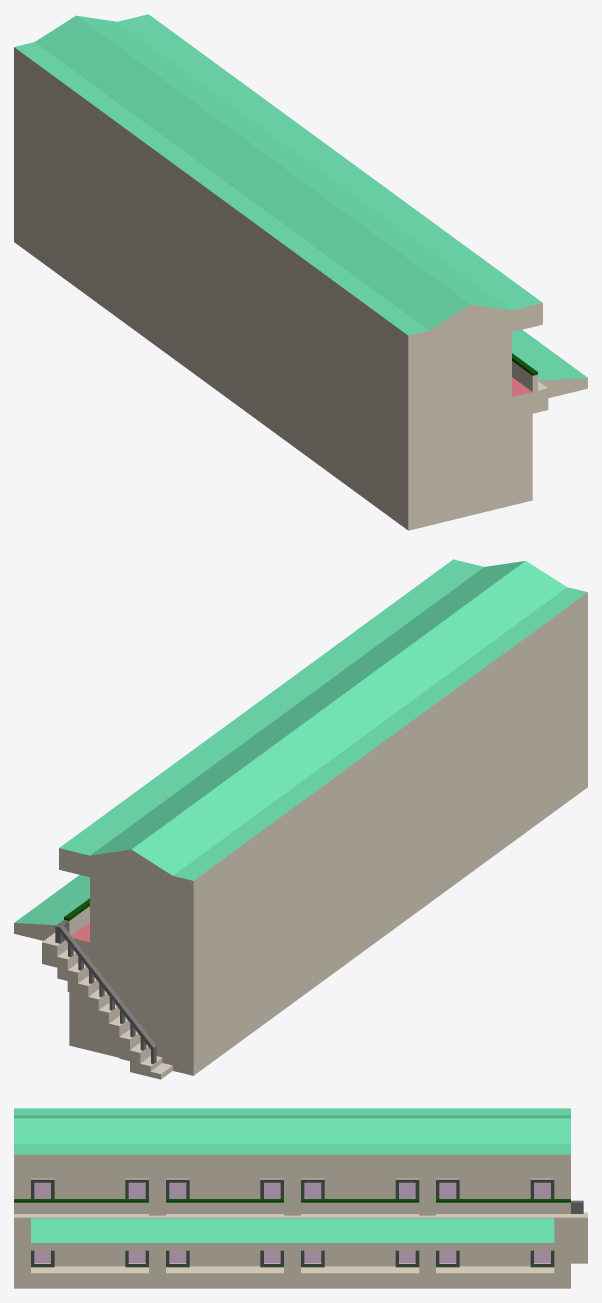
The model's file is MINE.fbx.
The picture shows the model from 3 angles, top to bottom: view 1: azimuth 30°, elevation 25°; view 2: azimuth 150°, elevation 25°; view 3: azimuth 270°, elevation 25°; orthographic projection. The views are drawn at different scales.
Parts seen in each view (by area): view 1: Cube; view 2: Cube; view 3: Cube.
Boxes of the visible parts, x1,y1,x2,y2 form: Cube: (14, 14, 587, 530); Cube: (14, 559, 587, 1079); Cube: (14, 1108, 587, 1288).
Bounding box in the file's own units: 1850 × 1950 × 6800.
